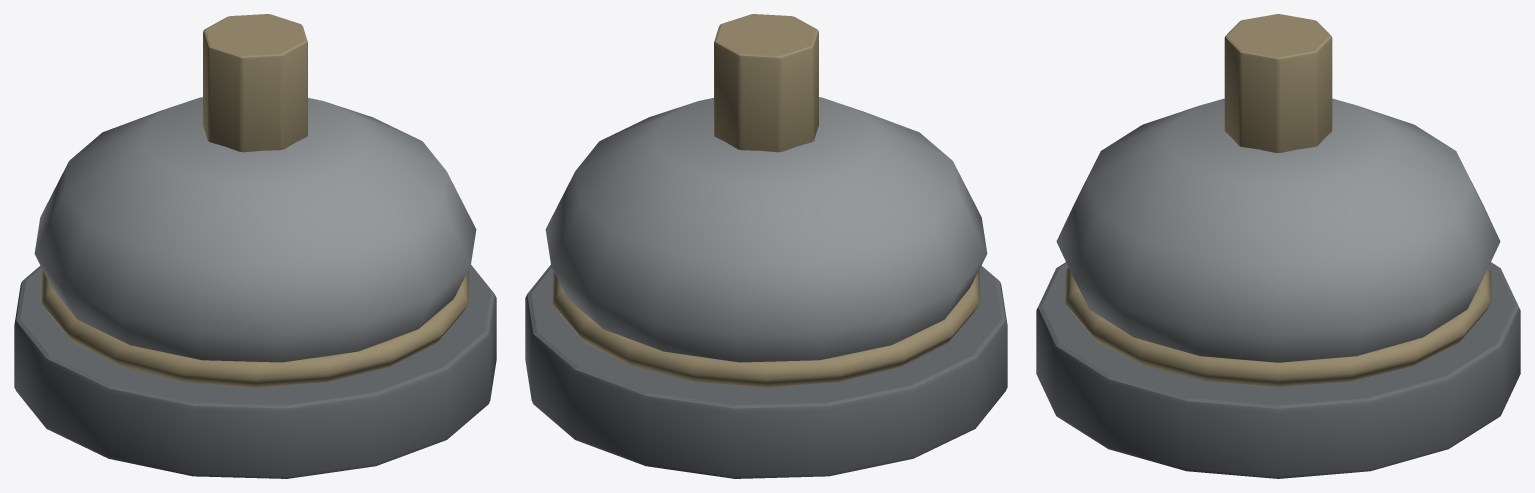
Rendered from counter_bell.glb.
The picture shows the model from 3 angles, left to right: view 1: azimuth 30°, elevation 25°; view 2: azimuth 150°, elevation 25°; view 3: azimuth 270°, elevation 25°; orthographic projection.
Bounding box in the file's own units: 0.24 × 0.1875 × 0.24.
